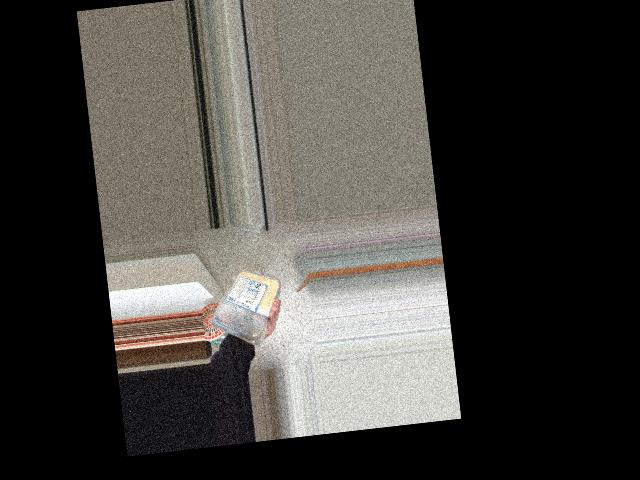cheese: (201, 264, 280, 333)
